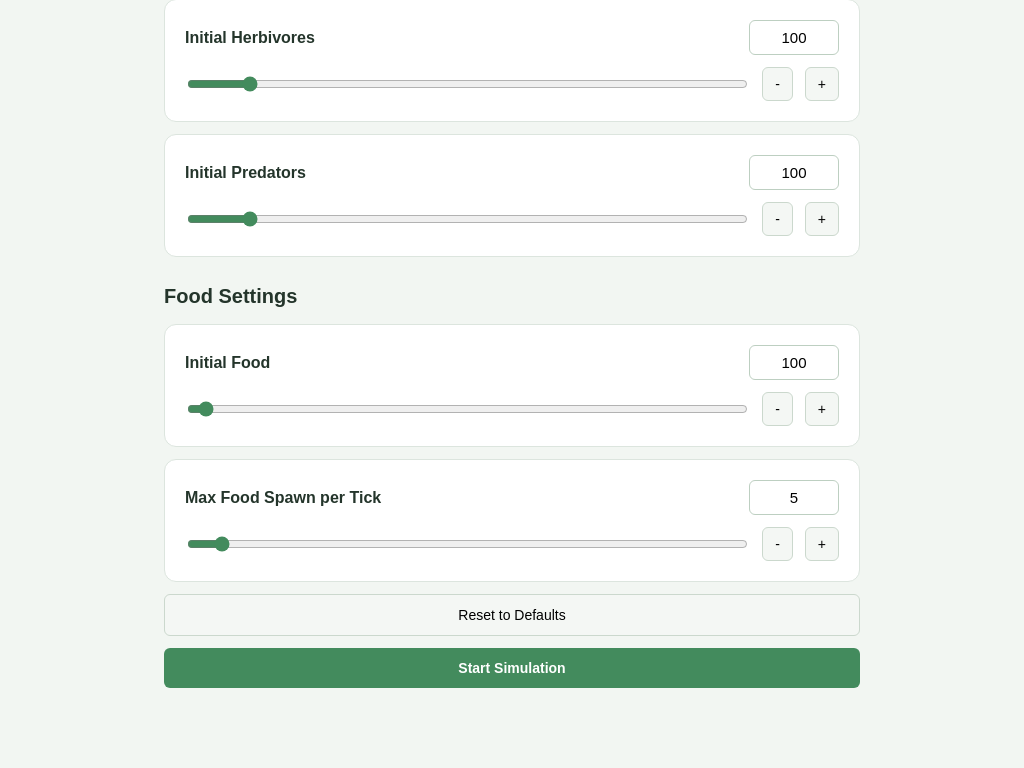
it: ConfigurationPage › displays a friendly message for a network error
(page scrolled)
Click the button "Start Simulation".
click(512, 668)  # box x1=164 y1=648 x2=860 y2=688
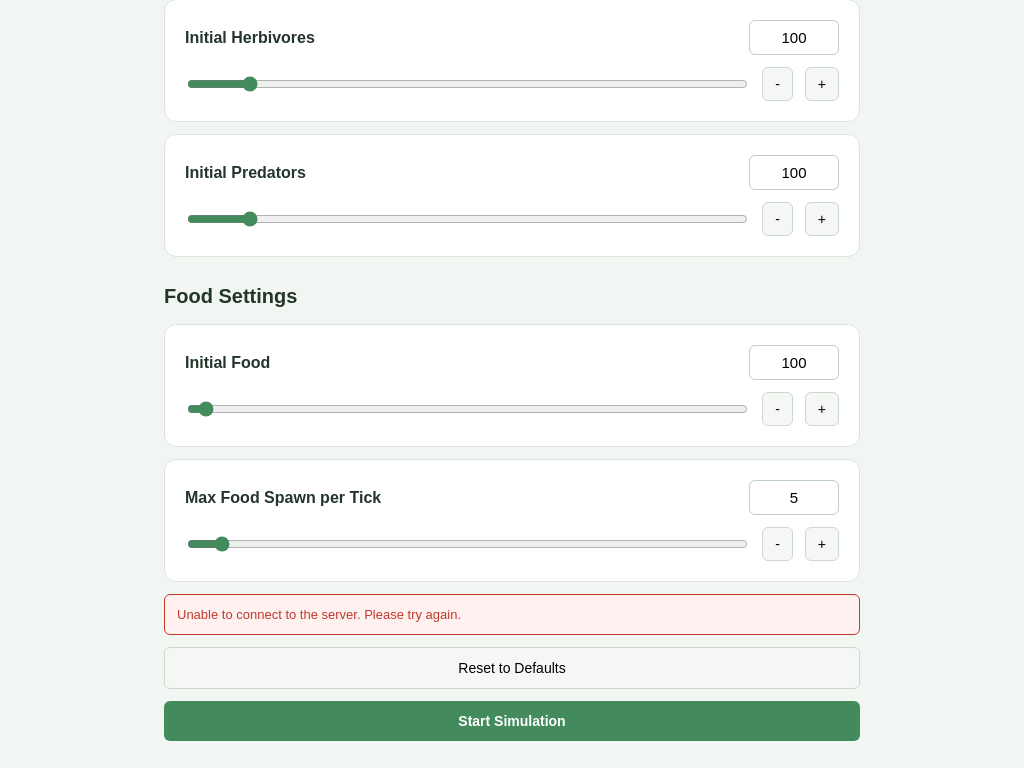
Now the message reads "Unable to connect to the server. Please try again.", box x1=177 y1=607 x2=461 y2=622
